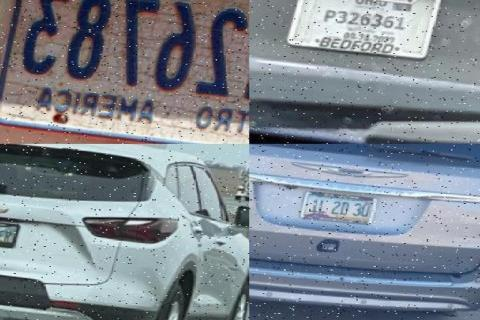LicensePlate: (4, 0, 250, 118), (287, 0, 442, 58), (301, 188, 380, 222), (0, 219, 22, 246)
